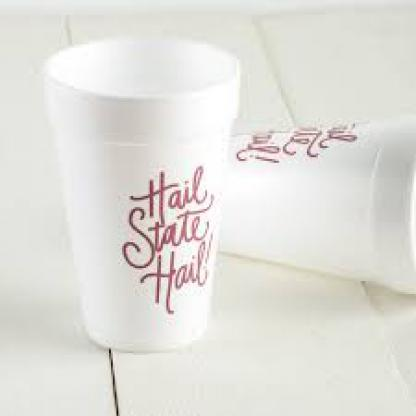paper: (44, 38, 240, 348), (213, 113, 414, 298)
